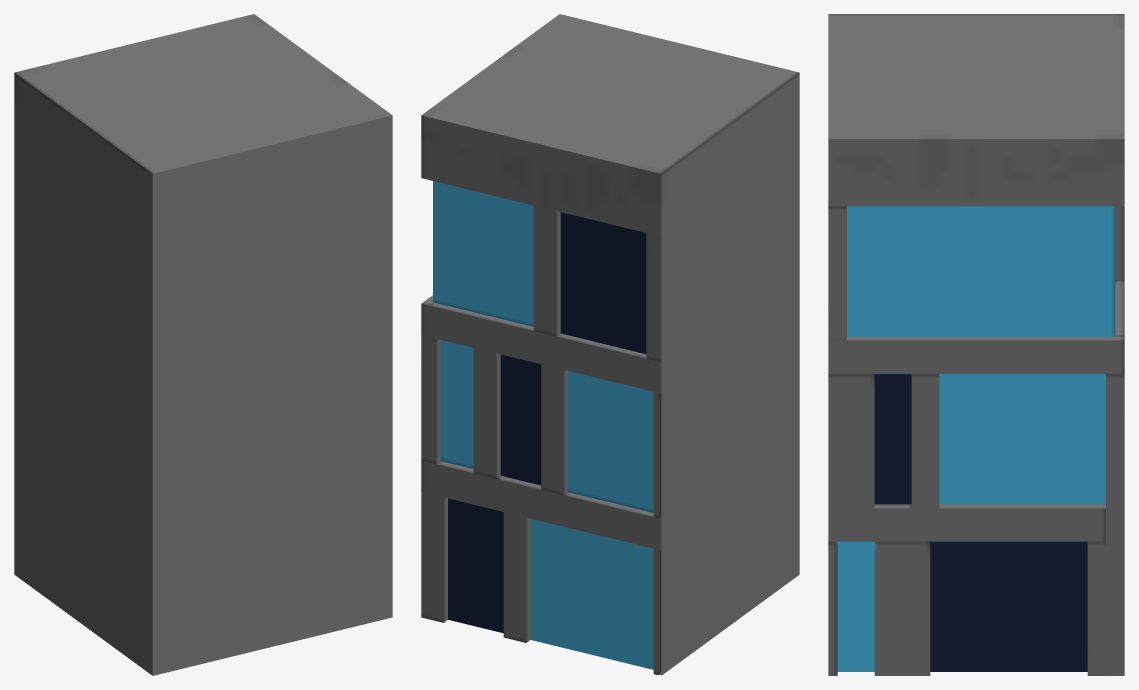
File: B_M_NIE_GÓRA_SRODEK.dae
The picture shows the model from 3 angles, left to right: view 1: azimuth 30°, elevation 25°; view 2: azimuth 150°, elevation 25°; view 3: azimuth 270°, elevation 25°; orthographic projection. The views are drawn at different scales.
Visible parts, largest first — view 1: Content; view 2: Content; view 3: Content.
Part boxes in pixels (box(x1,y1,x2,y2)): Content: box(14, 14, 392, 675); Content: box(421, 14, 799, 675); Content: box(828, 14, 1124, 675).
Bounding box in the file's own units: 32 × 64 × 32.
Materials: 1 (1 with a texture image).
